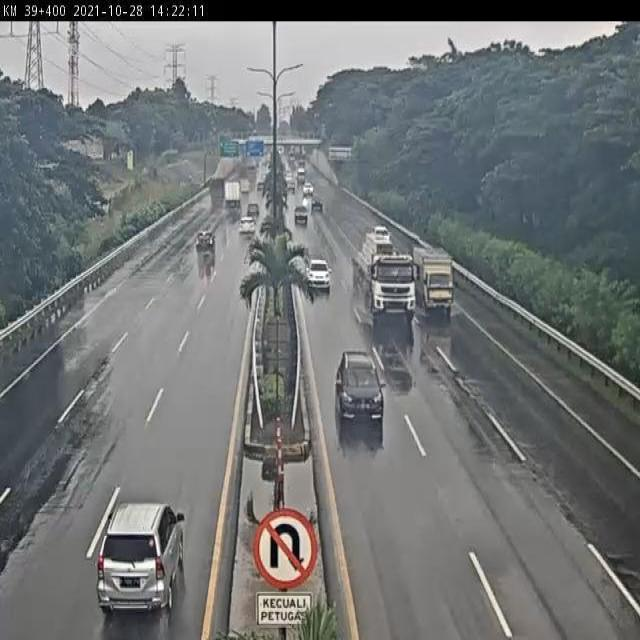ARABA: (95, 503, 189, 624), (334, 350, 384, 426), (302, 255, 330, 293), (194, 229, 216, 259)
KAMYONET: (416, 242, 458, 322)
TIR: (349, 226, 419, 322)
